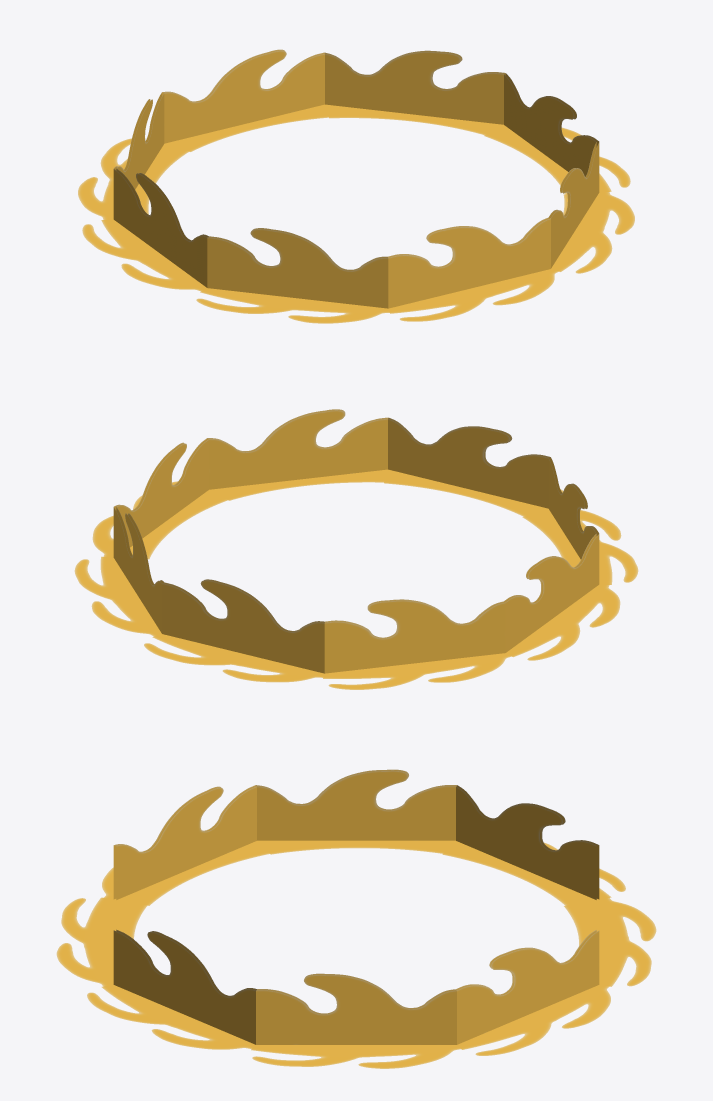
Rendered from Asset_BridgeOFF.fbx.
3 renders of one model, top to bottom at view 1: azimuth 30°, elevation 25°; view 2: azimuth 150°, elevation 25°; view 3: azimuth 270°, elevation 25°, orthographic. The views are drawn at different scales.
Visible parts, largest first — view 1: outerlight, innerlight, circle; view 2: outerlight, innerlight, circle; view 3: outerlight, innerlight, circle.
Boxes of the visible parts, <box> form: outerlight: <box>113,49,599,308</box>; innerlight: <box>116,50,596,270</box>; circle: <box>78,104,634,323</box>; outerlight: <box>113,409,599,673</box>; innerlight: <box>116,410,596,638</box>; circle: <box>74,469,638,689</box>; outerlight: <box>113,769,599,1044</box>; innerlight: <box>116,770,596,1014</box>; circle: <box>56,840,656,1068</box>.
Bounding box in the file's own units: 14.32 × 2.21 × 14.32.
